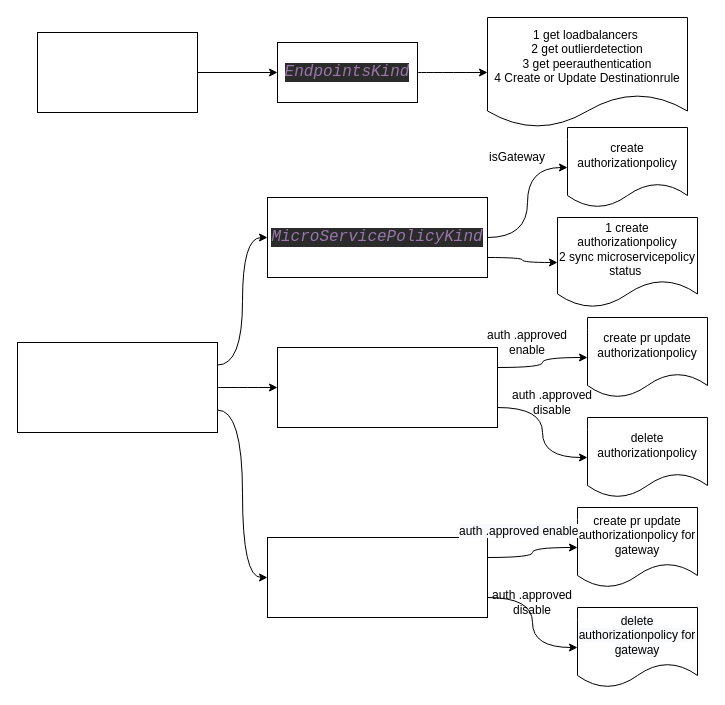
Image size: 725x705. Some labels were removed from this diagram. The shapes that lost their labels are listed below. From the top down, each one's box as (x1, y1, x2, y2) in pixels, then its label:
(36, 32, 198, 112): destinationrule
(16, 342, 218, 432): authorizationpolicy
(276, 346, 498, 428): MicroServicetKind
(266, 536, 488, 618): ConfigMapKind
